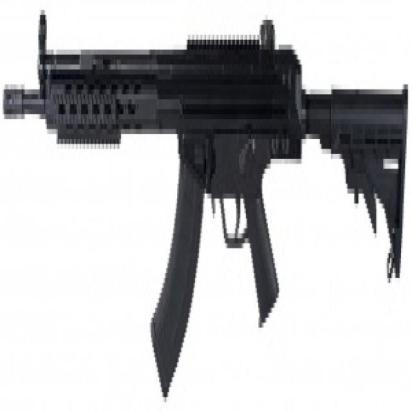Gun: (2, 4, 412, 412)
